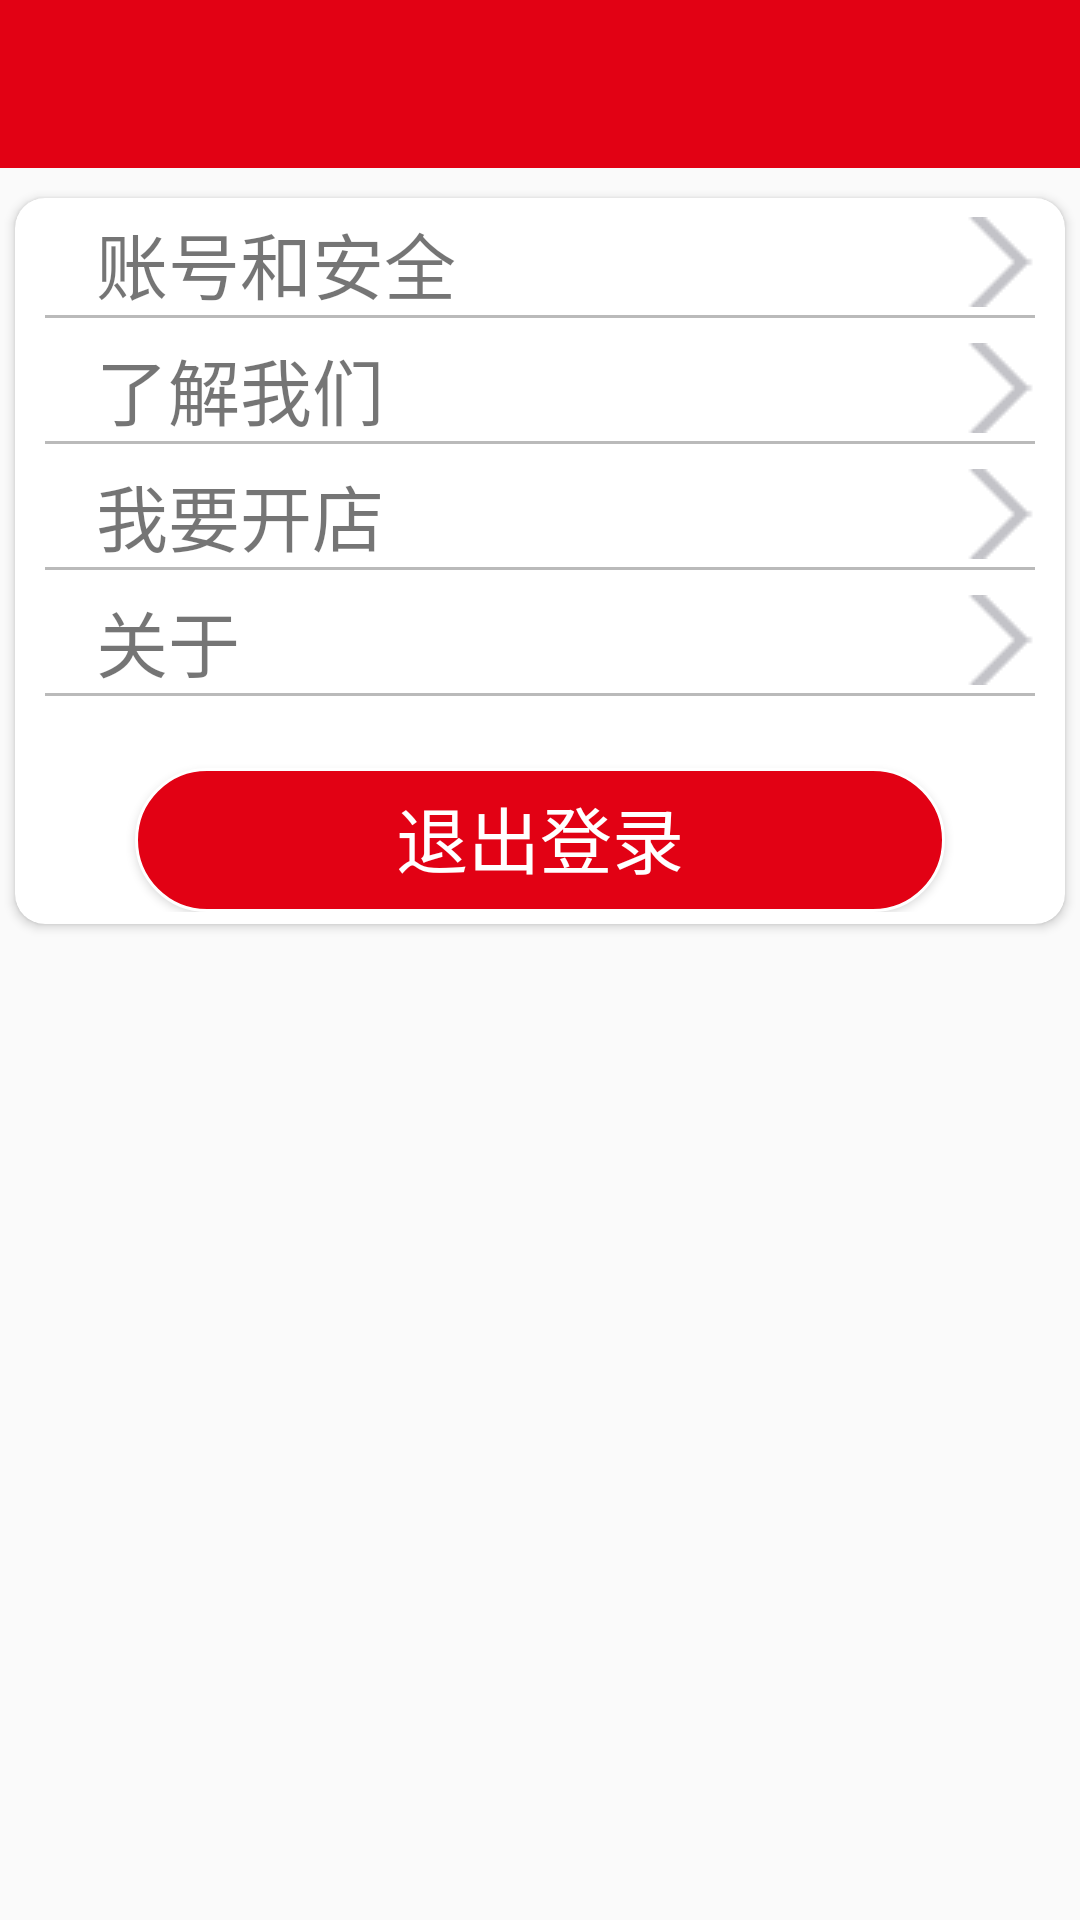

Named icons in this screenshot (1080px×1920px) and their centers, (x=x, y=y):
arrow: (x=1001, y=262), (x=1001, y=388), (x=1001, y=514), (x=1001, y=640)
